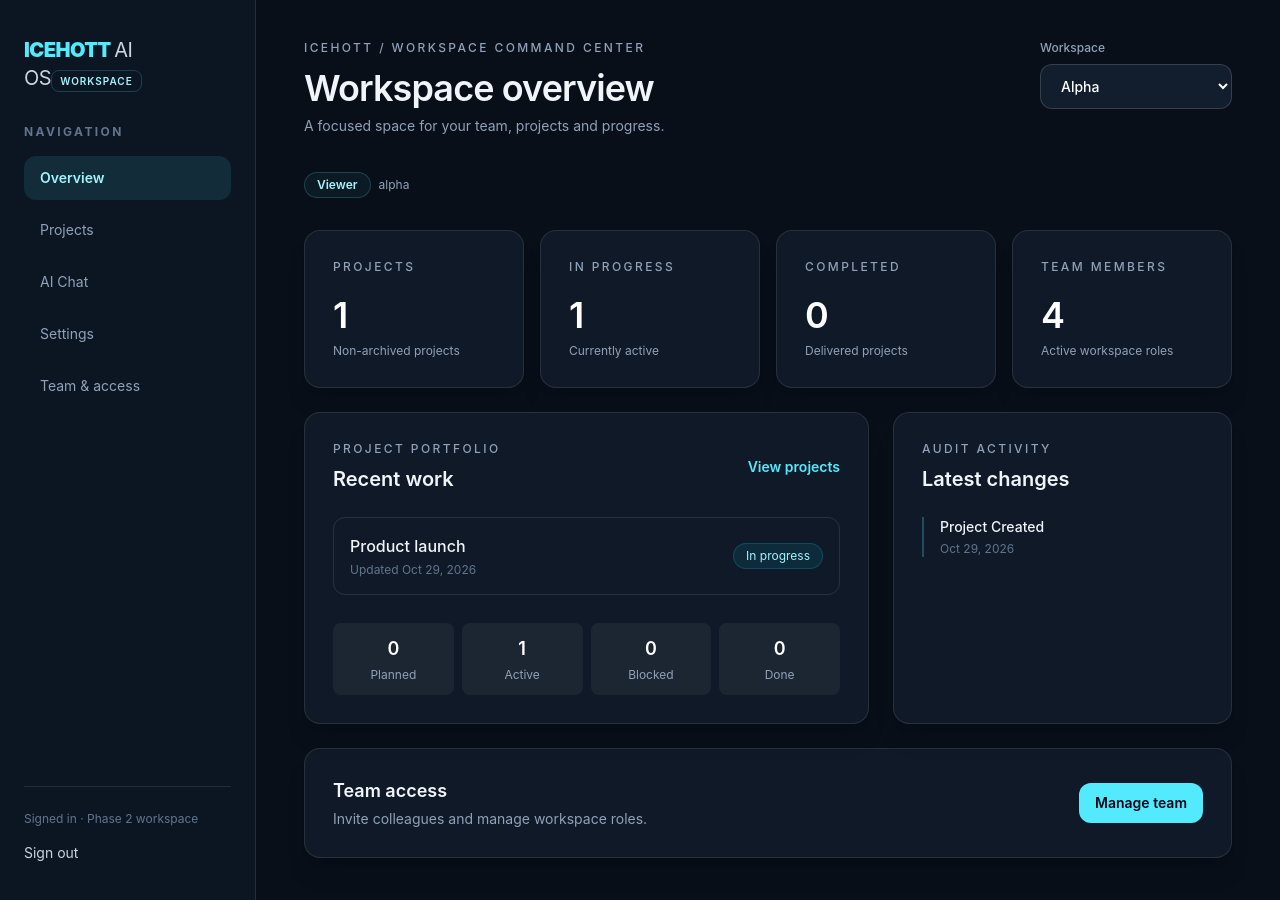
Test case: Phase 2 role-gated workspace dashboard › switches workspaces without carrying prior tenant projects
Expected: the text "Product launch" is shown, top-left (350, 534), bottom-right (476, 558)
Select "Beta" in the dropdown named "Choose workspace": (1136, 86) top-left (1040, 64), bottom-right (1232, 109)
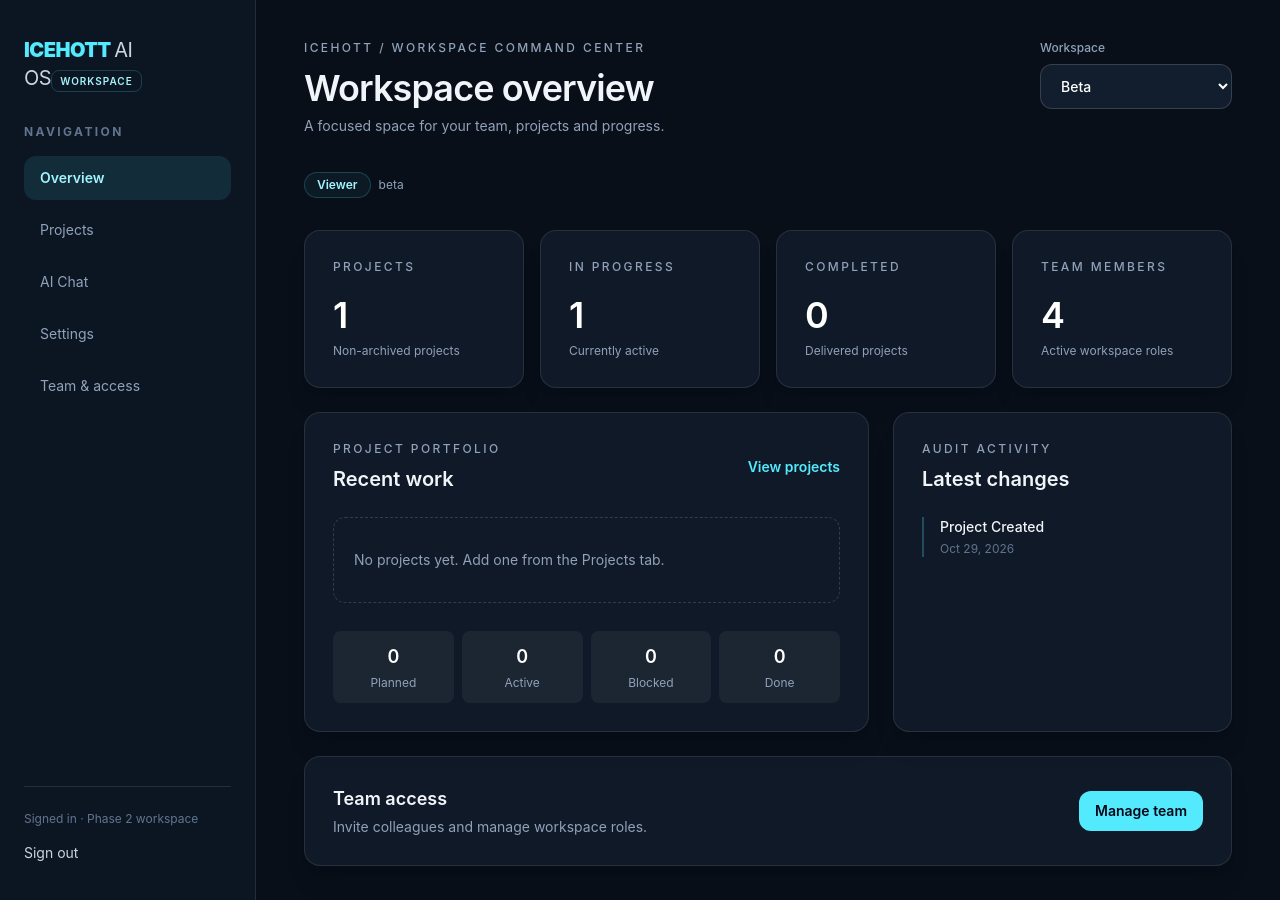
Expected: the text "Product launch" is gone
Expected: the text "No projects yet. Add one from the Projects tab." is shown, top-left (333, 517), bottom-right (840, 603)
